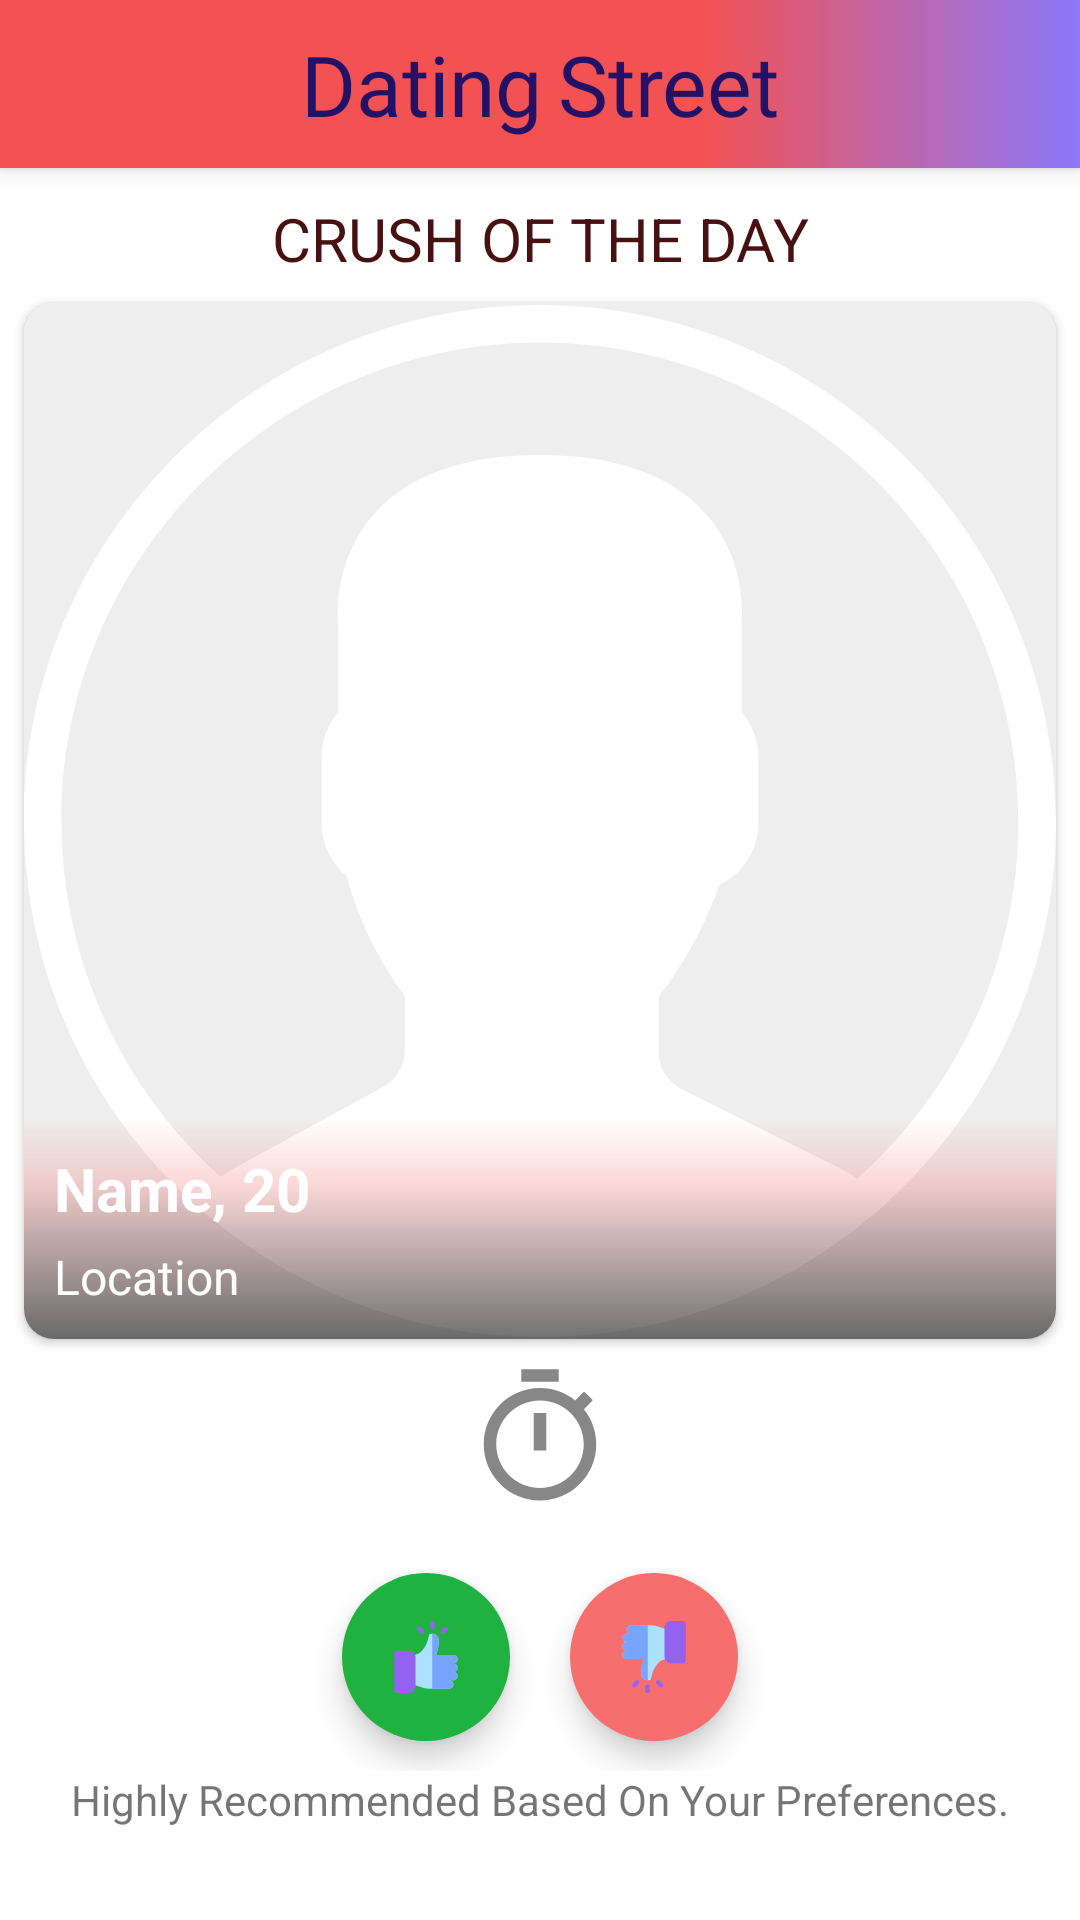

Icon bounding boxes for this 1080*1920 phone screenshot, format (x1, y1, x2, y2):
timer: (483, 1369, 597, 1501)
